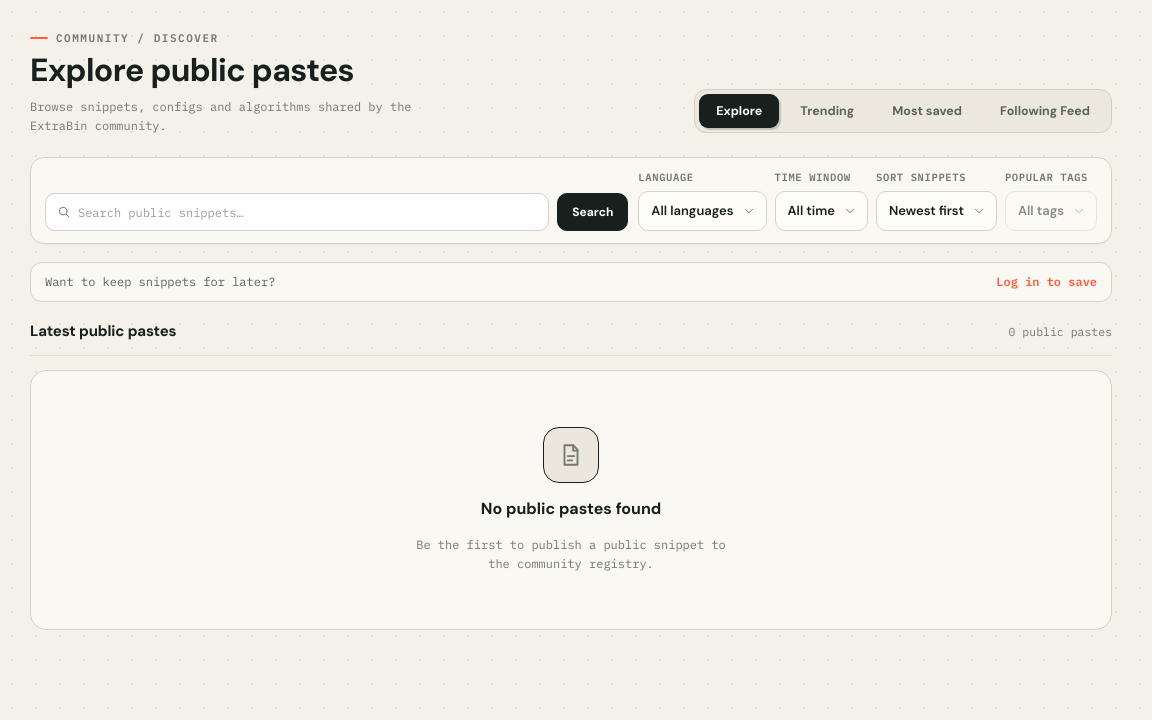
DiscoveryPage redesign contract › RED-D07 mostSaved_onlyExposesLanguageFilter
The image size is (1152, 720).
Click the button "Most saved".
click(927, 111)  # box [875, 94, 979, 128]
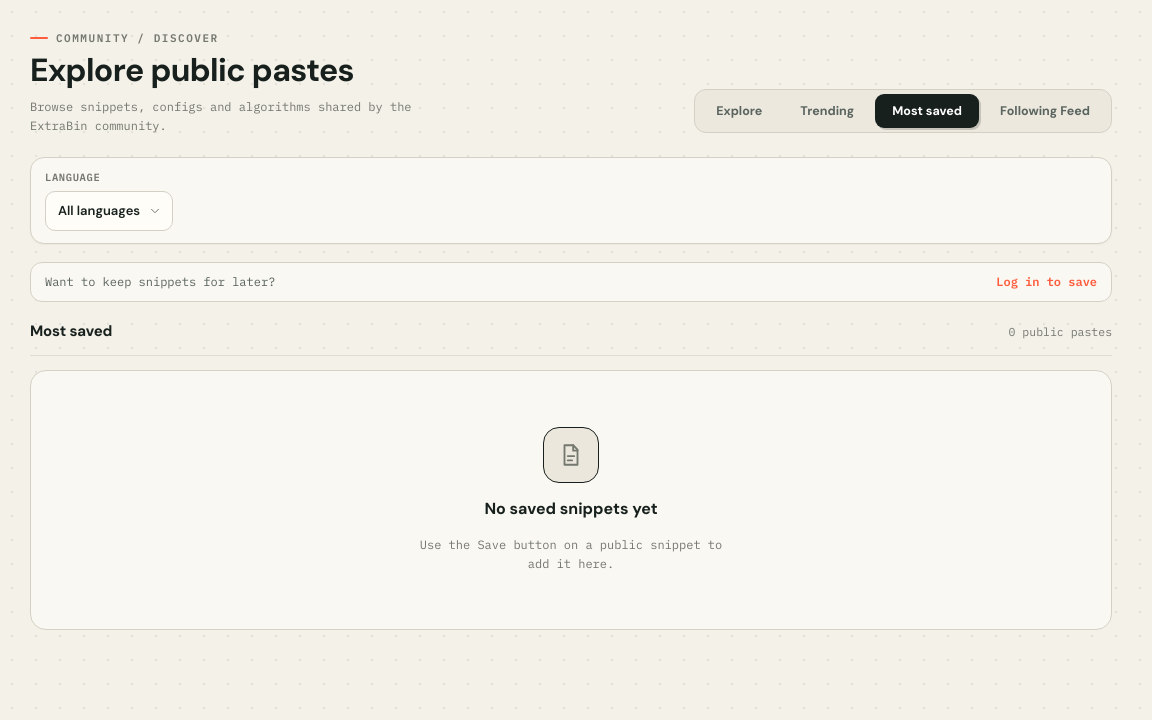
Now the heading "Most saved" is shown, box [30, 320, 112, 343]
Now the label labelled "Time window" is gone
Now the label labelled "Sort snippets" is gone
